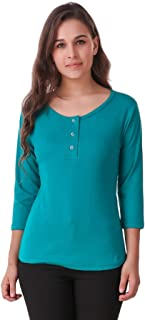tshirt: (8, 86, 142, 277)
